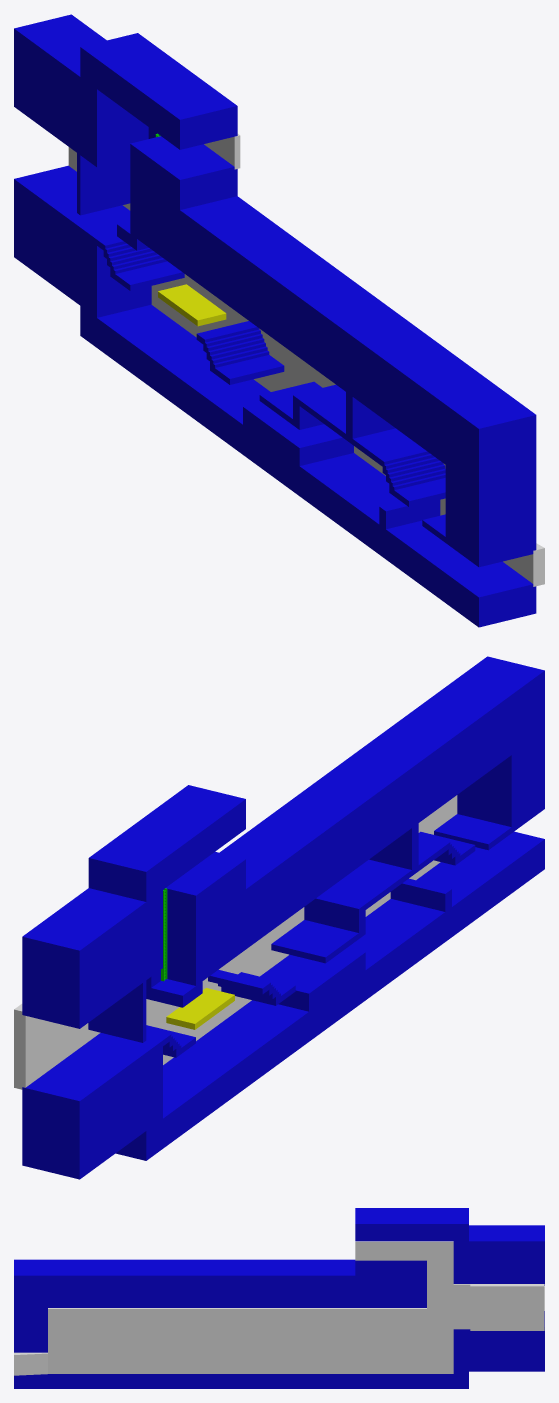
File: Level_3_scene17_colored_bg.fbx
3 views of the same model, one above another, from view 1: azimuth 30°, elevation 25°; view 2: azimuth 150°, elevation 25°; view 3: azimuth 270°, elevation 25° (orthographic). The views are drawn at different scales.
Parts seen in each view (by area): view 1: Cube.052, Cube.202, Cube.059, Cube.061, Cube.058, Cube.057, Cube.054, Cube.013, Cube.056; view 2: Cube.052, Cube.059, Cube.202, Cube.301, Cube.057, Cube.058, Cube.060, Cube.013, Cube.061, Cube.056, Cube.054; view 3: Cube.052, Cube.202, Cube.204, Cube.301, Cube.005.
Boxes of the visible parts, x1,y1,x2,y2 form: Cube.052: [14, 14, 536, 627]; Cube.202: [151, 274, 544, 586]; Cube.059: [259, 381, 395, 444]; Cube.061: [352, 428, 445, 507]; Cube.058: [196, 321, 284, 384]; Cube.057: [243, 402, 353, 465]; Cube.054: [97, 235, 184, 290]; Cube.013: [158, 284, 226, 326]; Cube.056: [379, 500, 440, 529]; Cube.052: [22, 656, 544, 1179]; Cube.059: [271, 823, 418, 963]; Cube.202: [146, 795, 457, 1064]; Cube.301: [14, 1004, 90, 1089]; Cube.057: [260, 948, 365, 1011]; Cube.058: [208, 969, 295, 1005]; Cube.060: [434, 814, 511, 850]; Cube.013: [166, 988, 234, 1029]; Cube.061: [418, 831, 475, 870]; Cube.056: [390, 878, 451, 911]; Cube.054: [146, 1025, 195, 1057]; Cube.052: [14, 1208, 544, 1388]; Cube.202: [14, 1308, 453, 1375]; Cube.204: [355, 1241, 470, 1329]; Cube.301: [470, 1284, 544, 1330]; Cube.005: [412, 1260, 426, 1307].
Bounding box in the file's own units: 1148 × 4800 × 14004.
